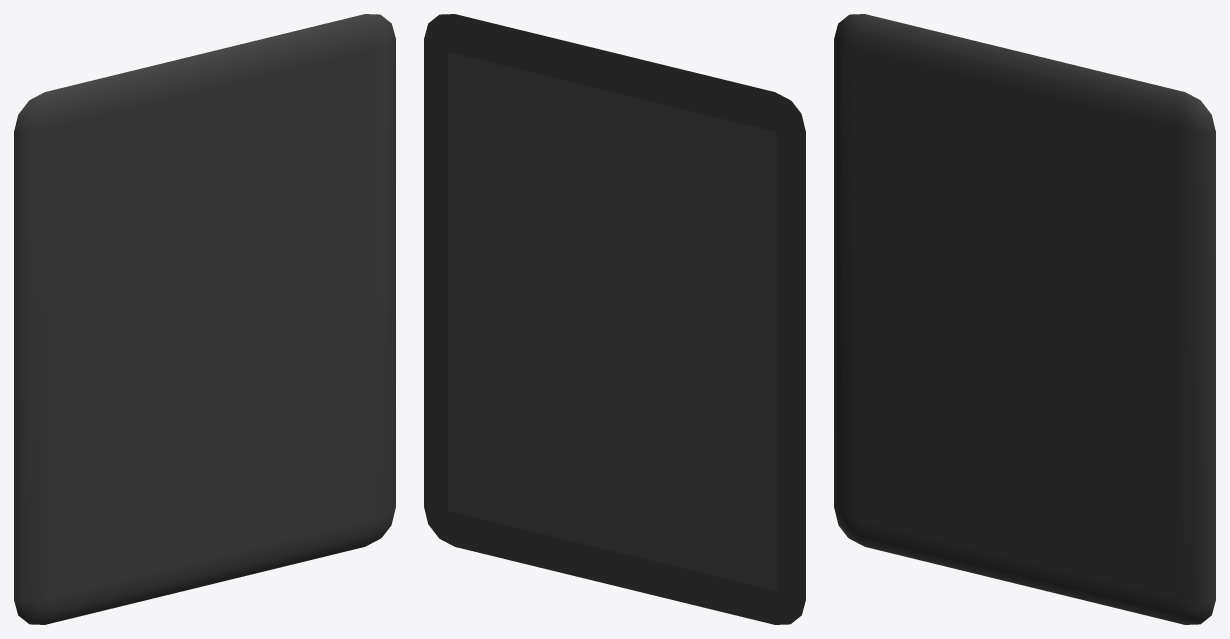
The model's file is item_scanner.glb.
3 renders of one model, left to right at view 1: azimuth 30°, elevation 25°; view 2: azimuth 150°, elevation 25°; view 3: azimuth 330°, elevation 25°, orthographic.
Visible parts, largest first — view 1: Tablet; view 2: Quad, Tablet; view 3: Tablet.
Part boxes in pixels (x1=…): Tablet: x1=14, y1=14, x2=395, y2=624; Quad: x1=447, y1=52, x2=776, y2=590; Tablet: x1=424, y1=14, x2=805, y2=624; Tablet: x1=834, y1=14, x2=1215, y2=624.
Size of the model in its own units: 0.2688 by 0.3584 by 0.0114.
Materials: 2 (1 with a texture image).
